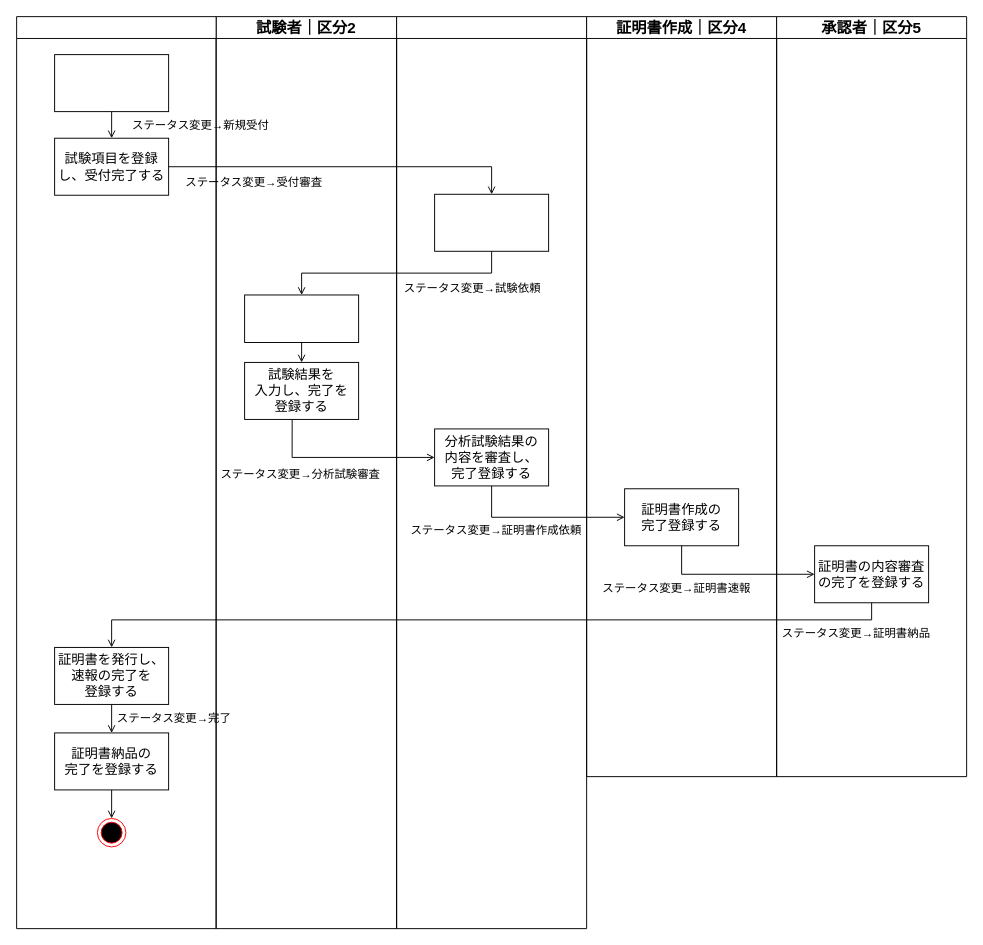
Some shapes in this 983 by 945 pixel diagram are drawn without their labels. The box of each missing label's shape, as (x1, y1, x2, y2) in pixels:
受付を作成する: (54, 54, 169, 112)
受付者｜区分1: (16, 16, 216, 929)
審査者｜区分3: (396, 16, 587, 929)
新規受付依頼の 内容を審査し、 する: (434, 193, 549, 251)
試験結果の入力を 開始する: (244, 294, 359, 342)
